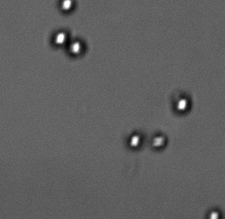Living Cell: (171, 89, 193, 116), (148, 129, 171, 152), (66, 36, 88, 60), (125, 129, 144, 151), (50, 26, 68, 47), (56, 1, 78, 16)
